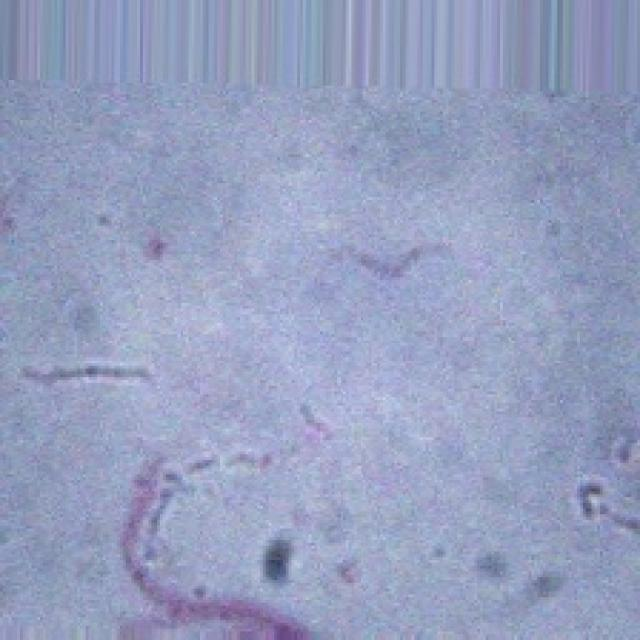Spiral_bacteria: (3, 77, 640, 640)
